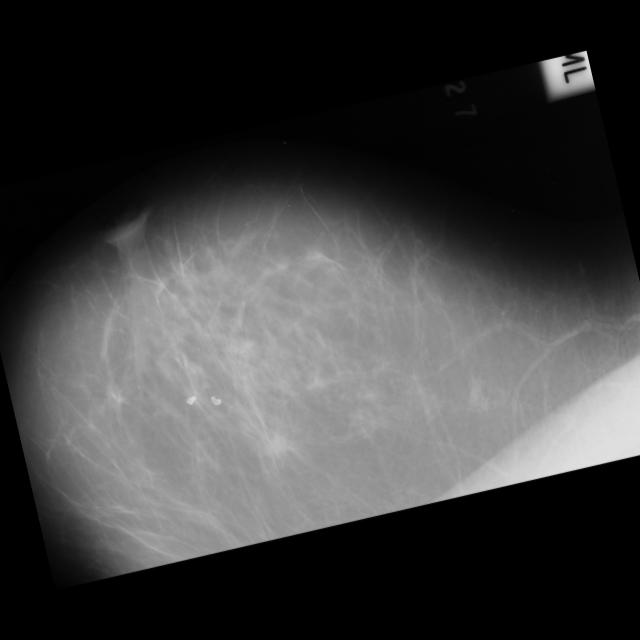SPIC: (266, 372, 640, 625)
